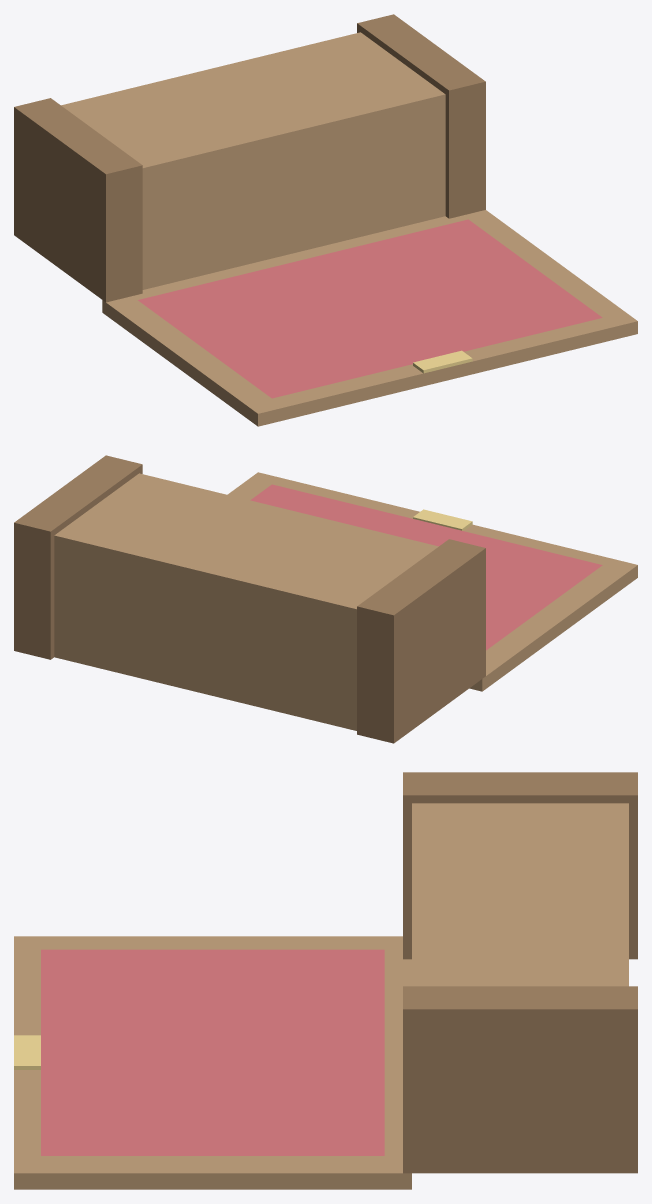
The model's file is choose-starter-briefcase-open.gltf.
The picture shows the model from 3 angles, top to bottom: view 1: azimuth 30°, elevation 25°; view 2: azimuth 150°, elevation 25°; view 3: azimuth 270°, elevation 25°; orthographic projection. The views are drawn at different scales.
Visible parts, largest first — view 1: choose-starter-briefcase-open; view 2: choose-starter-briefcase-open; view 3: choose-starter-briefcase-open.
Part boxes in pixels (bbox=[...]): choose-starter-briefcase-open: bbox=[14, 14, 637, 426]; choose-starter-briefcase-open: bbox=[14, 455, 637, 743]; choose-starter-briefcase-open: bbox=[14, 772, 637, 1189].
Bounding box in the file's own units: 124 × 44 × 138.
